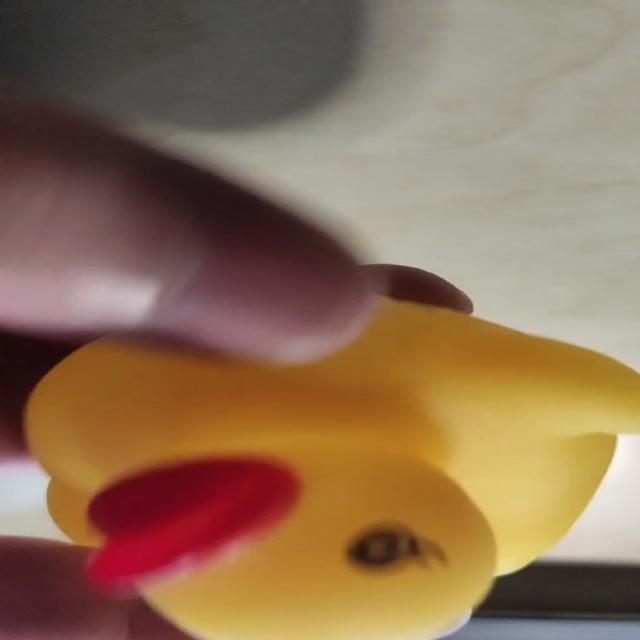rubber-duck: (25, 299, 638, 638)
